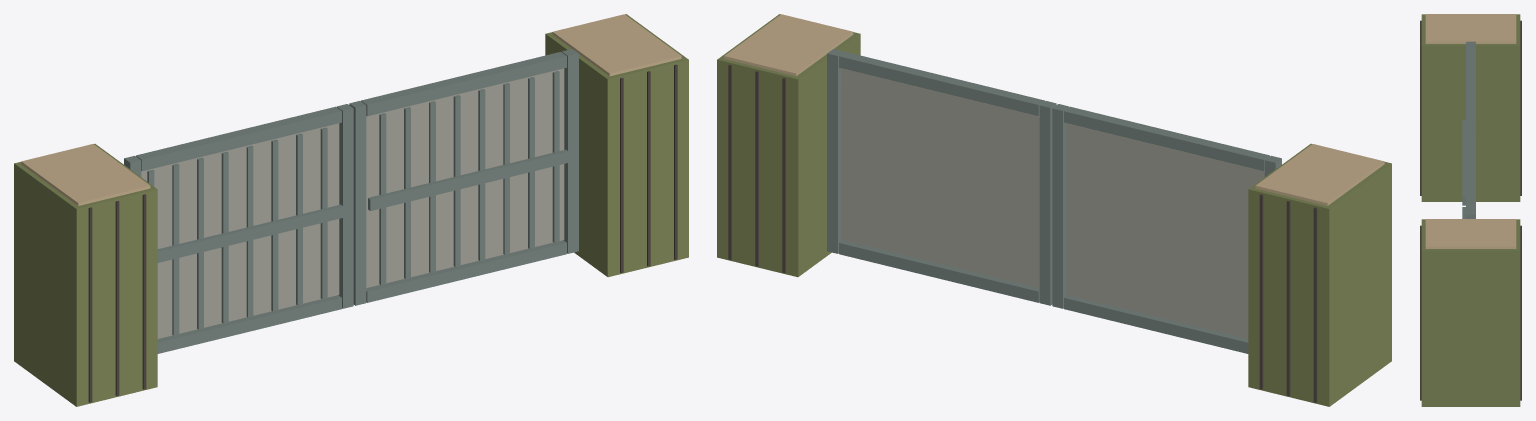
The model's file is SM_PuertaVia_v1_ChapaOndulada_e0_Sano_LOD0.fbx.
The picture shows the model from 3 angles, left to right: view 1: azimuth 30°, elevation 25°; view 2: azimuth 150°, elevation 25°; view 3: azimuth 270°, elevation 25°; orthographic projection. The views are drawn at different scales.
Visible parts, largest first — view 1: SM_bloques.puerta_via_v4_LOD0, Hoja_E, Hoja_O; view 2: SM_bloques.puerta_via_v4_LOD0, Hoja_E, Hoja_O; view 3: SM_bloques.puerta_via_v4_LOD0, Hoja_O, Hoja_E.
Part boxes in pixels (left/top/right/bottom): SM_bloques.puerta_via_v4_LOD0: left=14, top=14, right=688, bottom=406; Hoja_E: left=349, top=49, right=578, bottom=305; Hoja_O: left=124, top=104, right=353, bottom=353; SM_bloques.puerta_via_v4_LOD0: left=717, top=14, right=1391, bottom=406; Hoja_E: left=827, top=49, right=1056, bottom=305; Hoja_O: left=1052, top=104, right=1281, bottom=353; SM_bloques.puerta_via_v4_LOD0: left=1420, top=14, right=1521, bottom=406; Hoja_O: left=1462, top=41, right=1475, bottom=205; Hoja_E: left=1462, top=128, right=1475, bottom=218.
Size of the model in its own units: 6.8 by 2.16 by 1.24.
